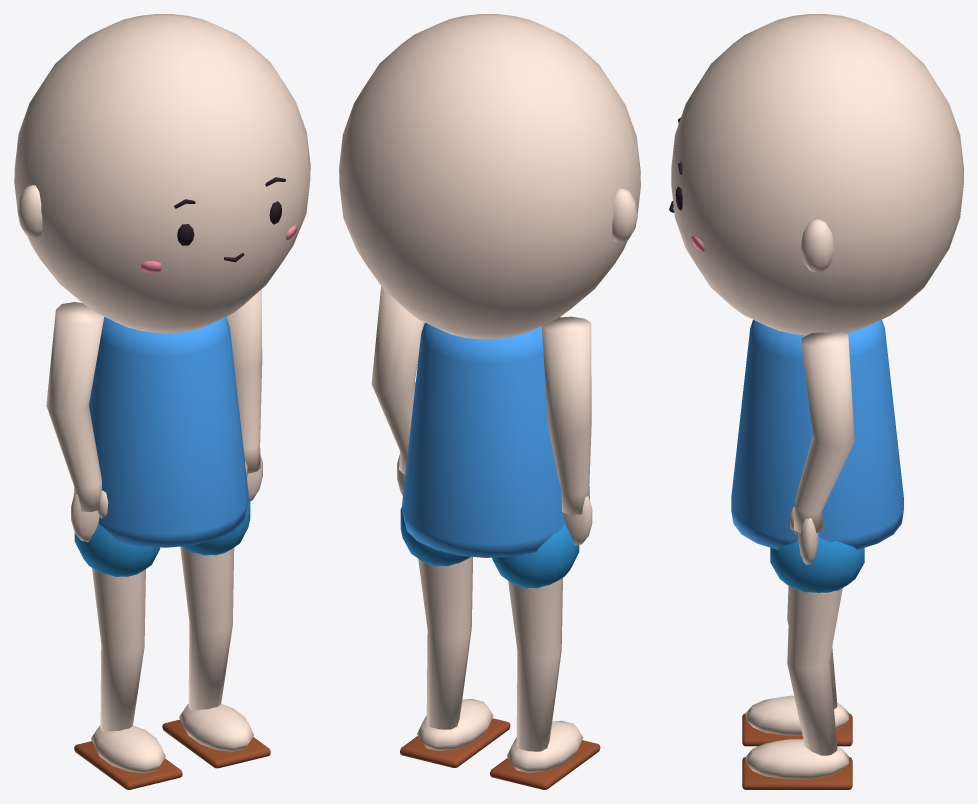
Rendered from hero-girl-teen.glb.
3 views of the same model, side by side, from view 1: azimuth 30°, elevation 25°; view 2: azimuth 150°, elevation 25°; view 3: azimuth 270°, elevation 25° (orthographic).
Parts seen in each view (by area): view 1: head, body, leg-left, leg-right, arm-left, arm-right; view 2: head, body, leg-left, leg-right, arm-left, arm-right; view 3: head, body, leg-right, arm-right, leg-left.
Part boxes in pixels (x1=…): head: x1=14, y1=14, x2=310, y2=333; body: x1=89, y1=317, x2=248, y2=547; leg-left: x1=74, y1=523, x2=182, y2=789; leg-right: x1=162, y1=497, x2=270, y2=768; arm-left: x1=46, y1=302, x2=108, y2=541; arm-right: x1=226, y1=289, x2=262, y2=501; head: x1=339, y1=14, x2=640, y2=339; body: x1=402, y1=322, x2=564, y2=557; leg-left: x1=490, y1=522, x2=600, y2=789; leg-right: x1=400, y1=507, x2=510, y2=767; arm-left: x1=542, y1=316, x2=592, y2=545; arm-right: x1=371, y1=286, x2=424, y2=495; head: x1=669, y1=14, x2=963, y2=335; body: x1=731, y1=319, x2=903, y2=549; leg-right: x1=742, y1=537, x2=864, y2=789; arm-right: x1=790, y1=331, x2=854, y2=564; leg-left: x1=742, y1=585, x2=852, y2=746.
Size of the model in its own units: 0.9058 by 2.19 by 0.8014.
